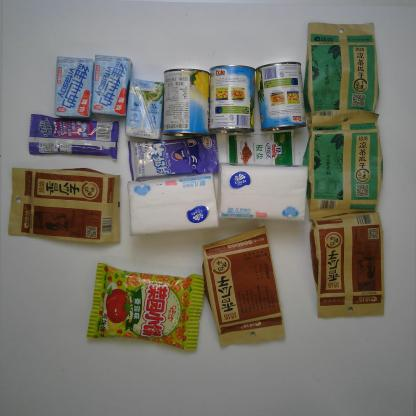Candy: (20, 109, 128, 165), (125, 134, 233, 186)
Canned Food: (152, 56, 221, 138), (207, 60, 264, 144), (254, 55, 314, 133)
Dried Food: (198, 226, 292, 349), (4, 157, 125, 251), (308, 207, 394, 328), (300, 13, 388, 130), (306, 104, 391, 217)
Milk: (44, 47, 99, 126), (91, 45, 140, 121), (120, 68, 169, 143)
Puffed Food: (79, 252, 214, 359)
Seasoner: (224, 132, 296, 175)
Tissue: (214, 155, 320, 231), (120, 177, 222, 238)
